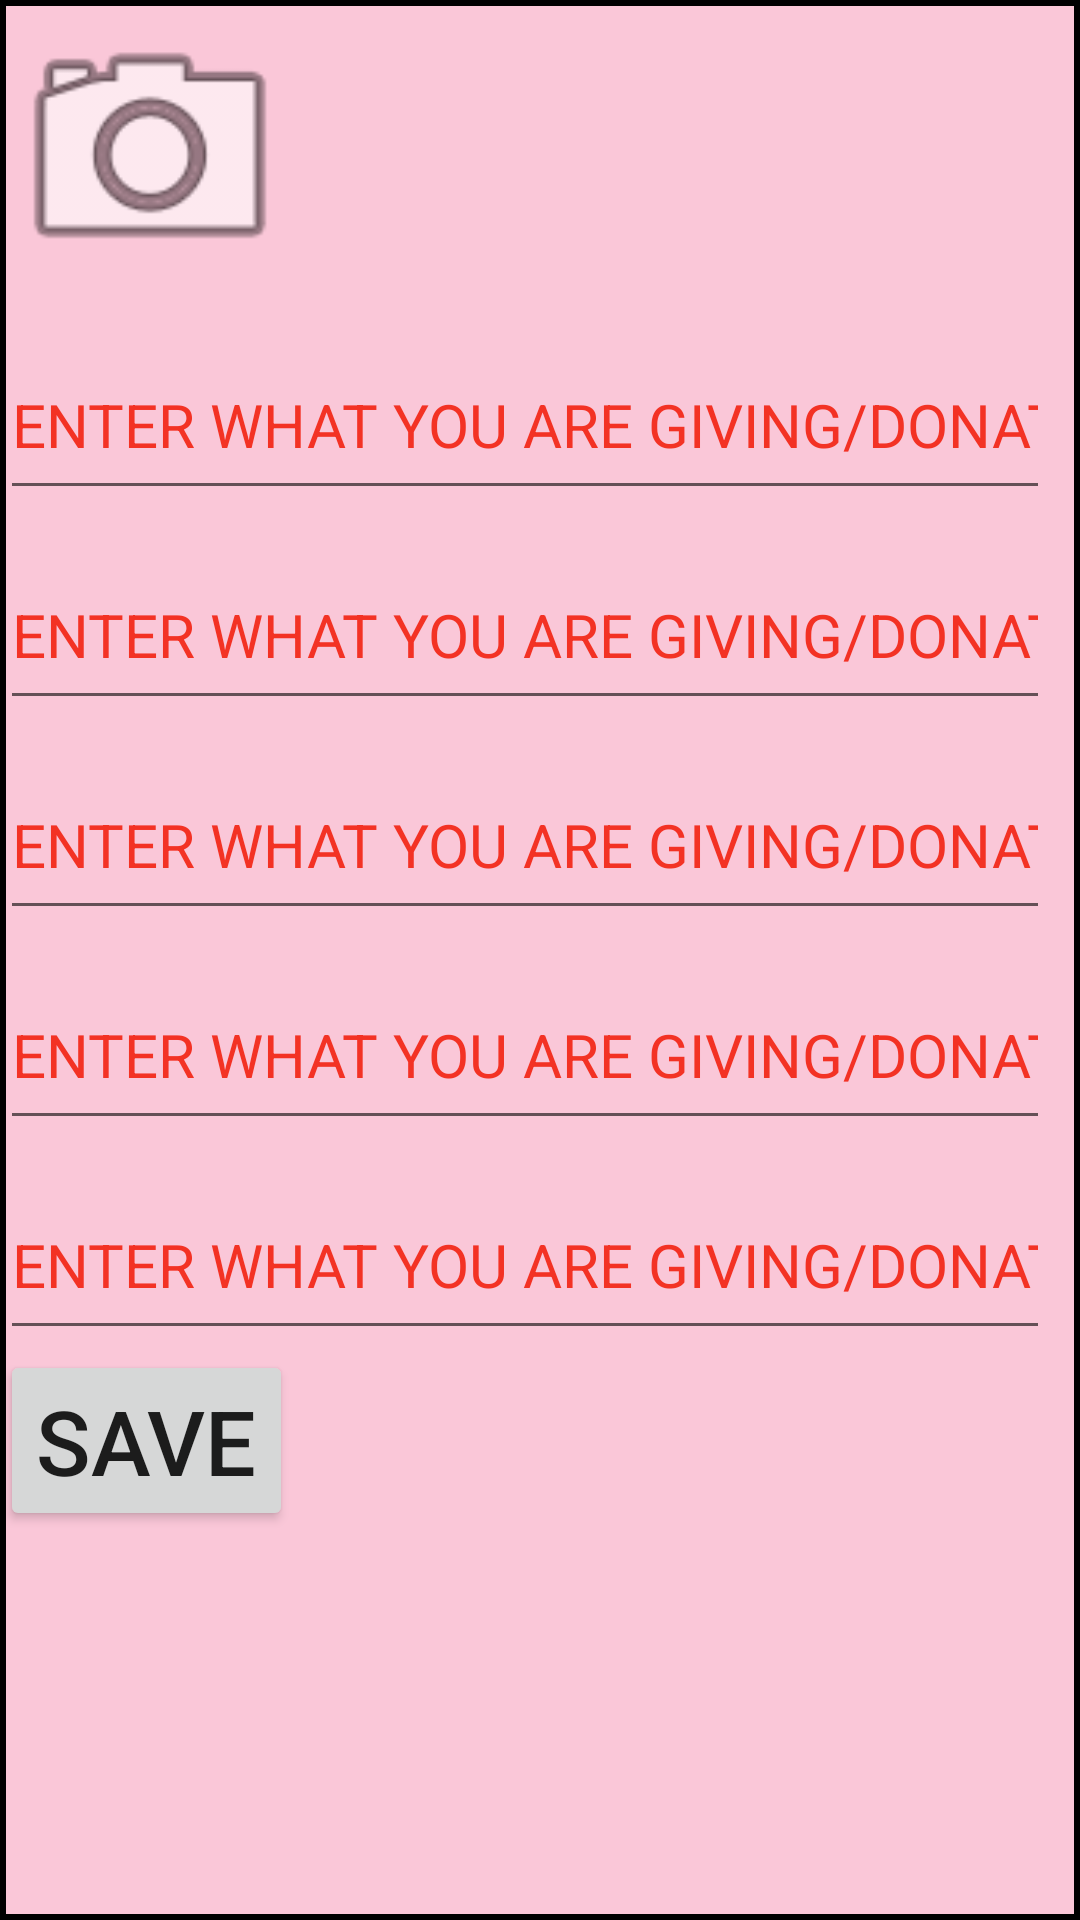

Icons on this 1080*1920 Android screen, each with the point to tap as [x,y]:
camera: [150,145]
